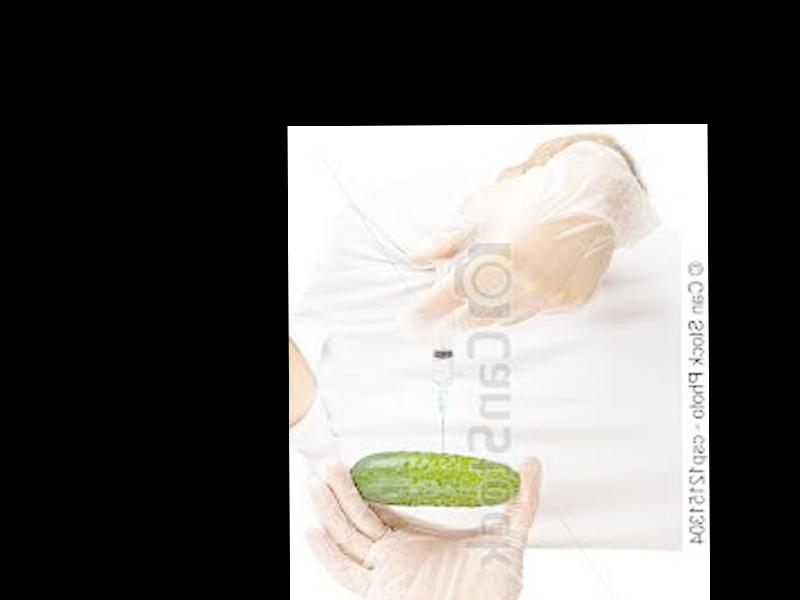Cucumber: (345, 452, 519, 509)
